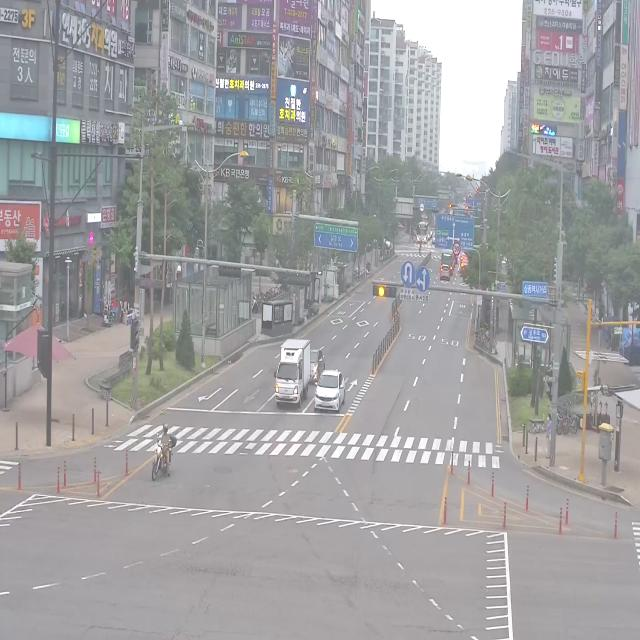Car: (314, 368, 345, 412), (439, 264, 450, 282)
Motorcycle: (151, 423, 177, 484)
Truck: (274, 338, 311, 410)
